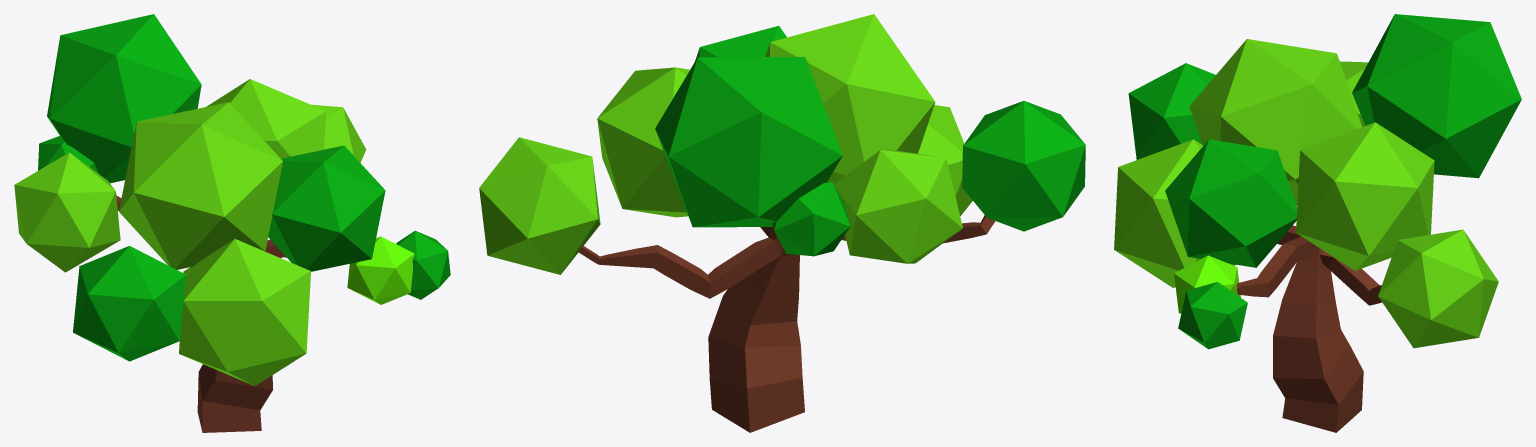
File: tree3.fbx
3 views of the same model, side by side, from view 1: azimuth 30°, elevation 25°; view 2: azimuth 150°, elevation 25°; view 3: azimuth 270°, elevation 25° (orthographic). The views are drawn at different scales.
Visible parts, largest first — view 1: Icosphere.041, Icosphere.043, Icosphere.037, Icosphere.042, Icosphere.038, Icosphere.039, Icosphere.040, Cube.008, Icosphere.034, Icosphere.033, Icosphere.035, Icosphere.036; view 2: Icosphere.043, Cube.008, Icosphere.041, Icosphere.035, Icosphere.038, Icosphere.039, Icosphere.040, Icosphere.036, Icosphere.037, Icosphere.042; view 3: Icosphere.043, Icosphere.040, Cube.008, Icosphere.041, Icosphere.042, Icosphere.035, Icosphere.037, Icosphere.038, Icosphere.033, Icosphere.034, Icosphere.039.
Boxes of the visible parts, x1=… form: Icosphere.041: x1=119, y1=102, x2=282, y2=269; Icosphere.043: x1=47, y1=14, x2=201, y2=183; Icosphere.037: x1=179, y1=239, x2=310, y2=385; Icosphere.042: x1=268, y1=145, x2=385, y2=271; Icosphere.038: x1=73, y1=246, x2=186, y2=361; Icosphere.039: x1=14, y1=152, x2=120, y2=272; Icosphere.040: x1=206, y1=79, x2=325, y2=158; Cube.008: x1=116, y1=195, x2=286, y2=432; Icosphere.034: x1=347, y1=236, x2=414, y2=304; Icosphere.033: x1=396, y1=230, x2=450, y2=299; Icosphere.035: x1=311, y1=104, x2=366, y2=162; Icosphere.036: x1=38, y1=135, x2=98, y2=173; Icosphere.043: x1=655, y1=57, x2=842, y2=227; Cube.008: x1=578, y1=215, x2=995, y2=432; Icosphere.041: x1=765, y1=14, x2=935, y2=183; Icosphere.035: x1=479, y1=137, x2=600, y2=274; Icosphere.038: x1=962, y1=101, x2=1085, y2=231; Icosphere.039: x1=834, y1=149, x2=962, y2=263; Icosphere.040: x1=597, y1=67, x2=689, y2=217; Icosphere.036: x1=772, y1=182, x2=850, y2=256; Icosphere.037: x1=843, y1=105, x2=972, y2=240; Icosphere.042: x1=695, y1=25, x2=786, y2=61; Icosphere.043: x1=1352, y1=14, x2=1521, y2=178; Icosphere.040: x1=1296, y1=122, x2=1434, y2=270; Cube.008: x1=1236, y1=225, x2=1381, y2=432; Icosphere.041: x1=1189, y1=39, x2=1361, y2=205; Icosphere.042: x1=1165, y1=139, x2=1297, y2=267; Icosphere.035: x1=1378, y1=229, x2=1498, y2=348; Icosphere.037: x1=1114, y1=139, x2=1235, y2=287; Icosphere.038: x1=1128, y1=63, x2=1215, y2=159; Icosphere.033: x1=1178, y1=282, x2=1247, y2=349; Icosphere.034: x1=1174, y1=255, x2=1240, y2=313; Icosphere.039: x1=1340, y1=61, x2=1368, y2=126.
Size of the model in its own units: 795 by 682 by 684.
